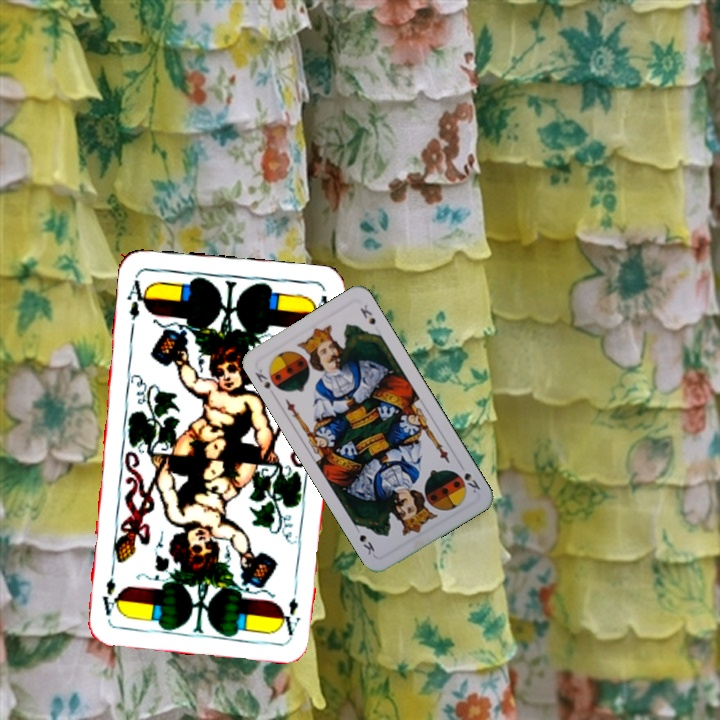EA: (277, 579, 303, 638), (122, 272, 151, 323)
SK: (455, 459, 483, 496), (251, 365, 273, 392)
